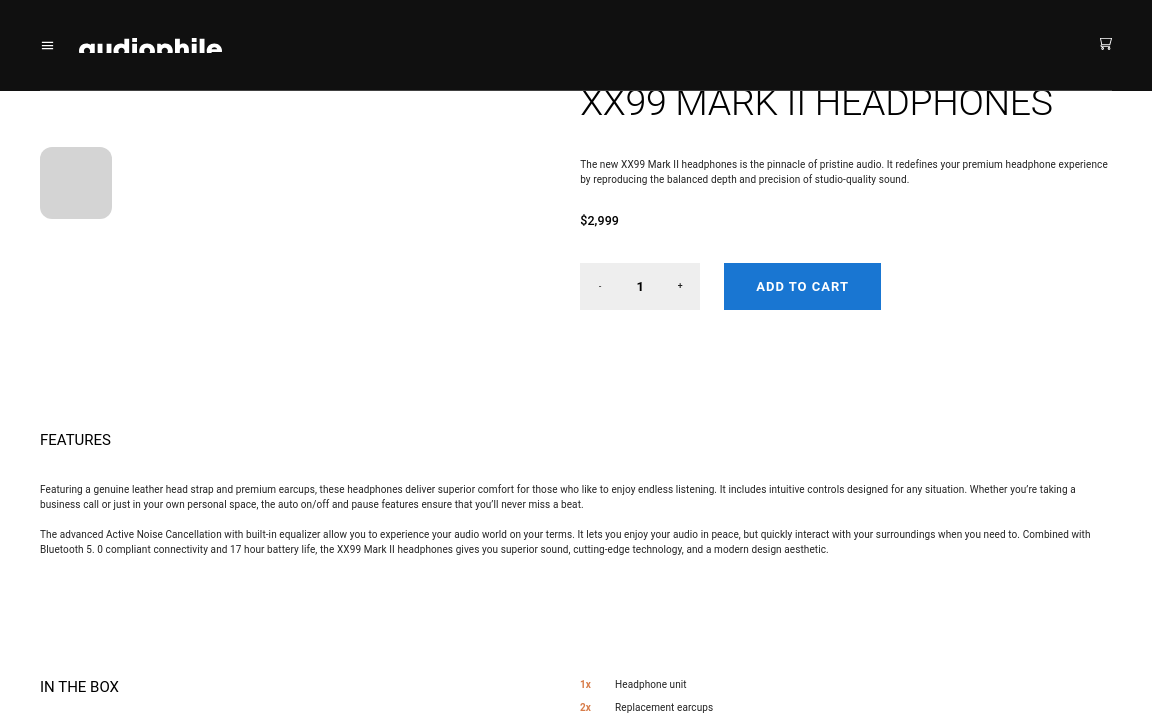
Scenario: Product Detail Screen › add multiple items to cart
Click the button "+". click: (680, 286)
box: [660,263,700,310]
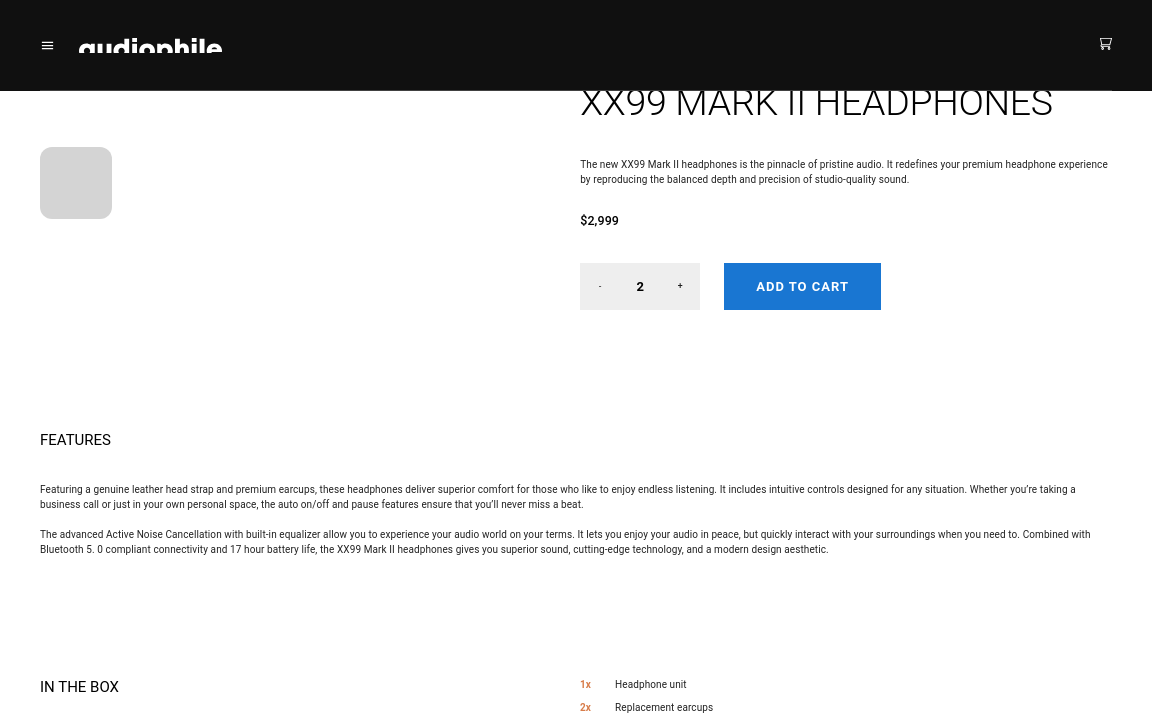
Click the button "Add to cart". click: (803, 286)
box: [724,263,881,310]
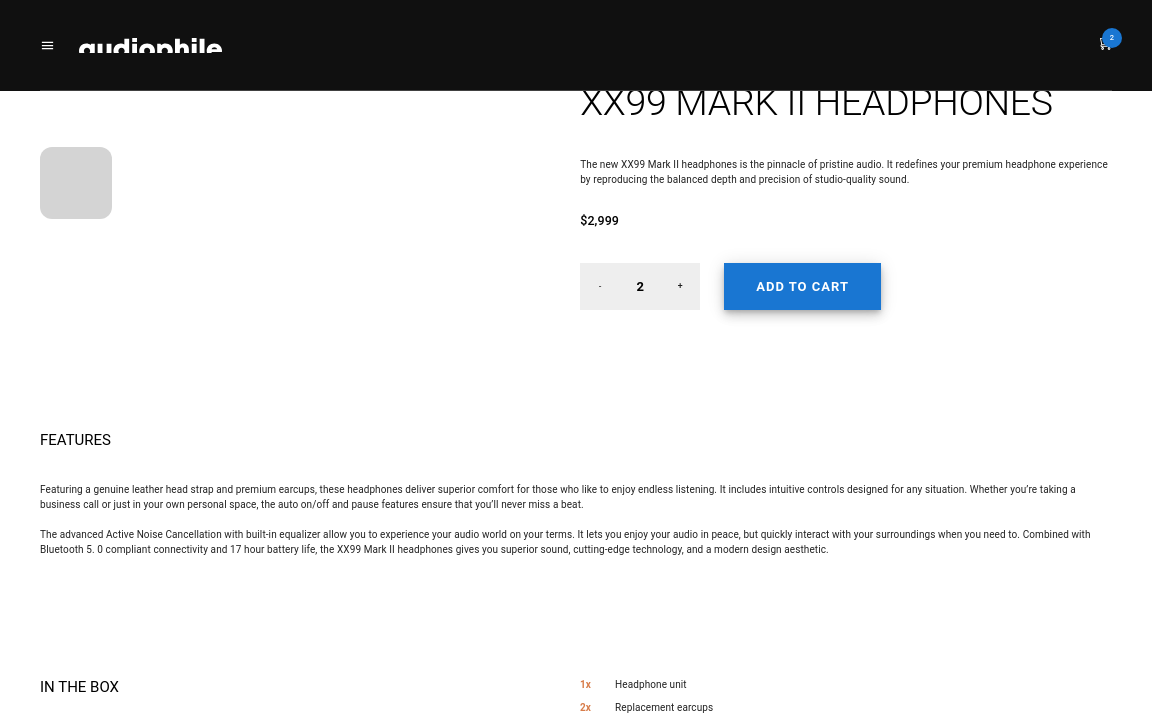
Check: the message reads "2", box [1110,33,1114,42]
